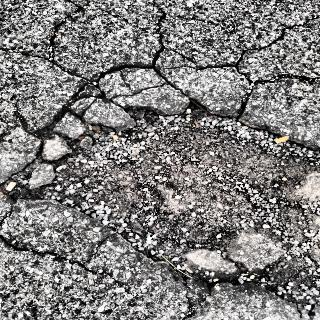alligator-crack: (0, 1, 318, 165)
crack: (0, 223, 117, 279)
pothole: (35, 98, 320, 298)
